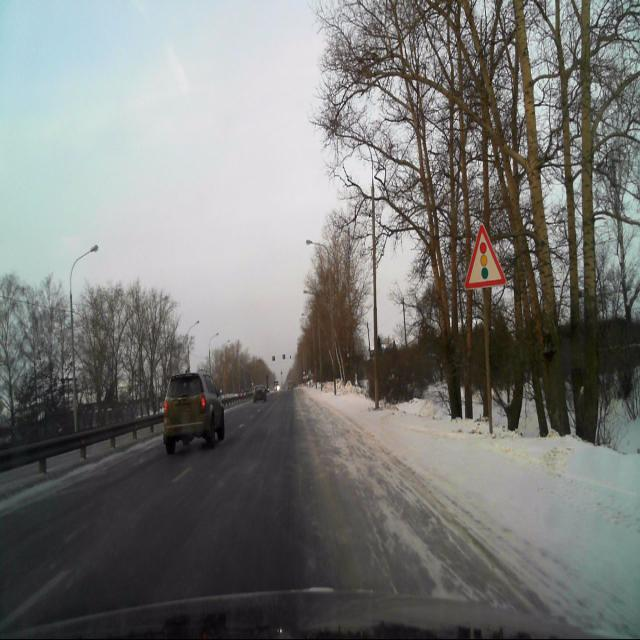road sign: (464, 226, 507, 290), (483, 287, 494, 438)
